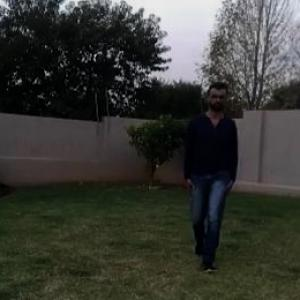follow: (182, 93, 236, 261)
